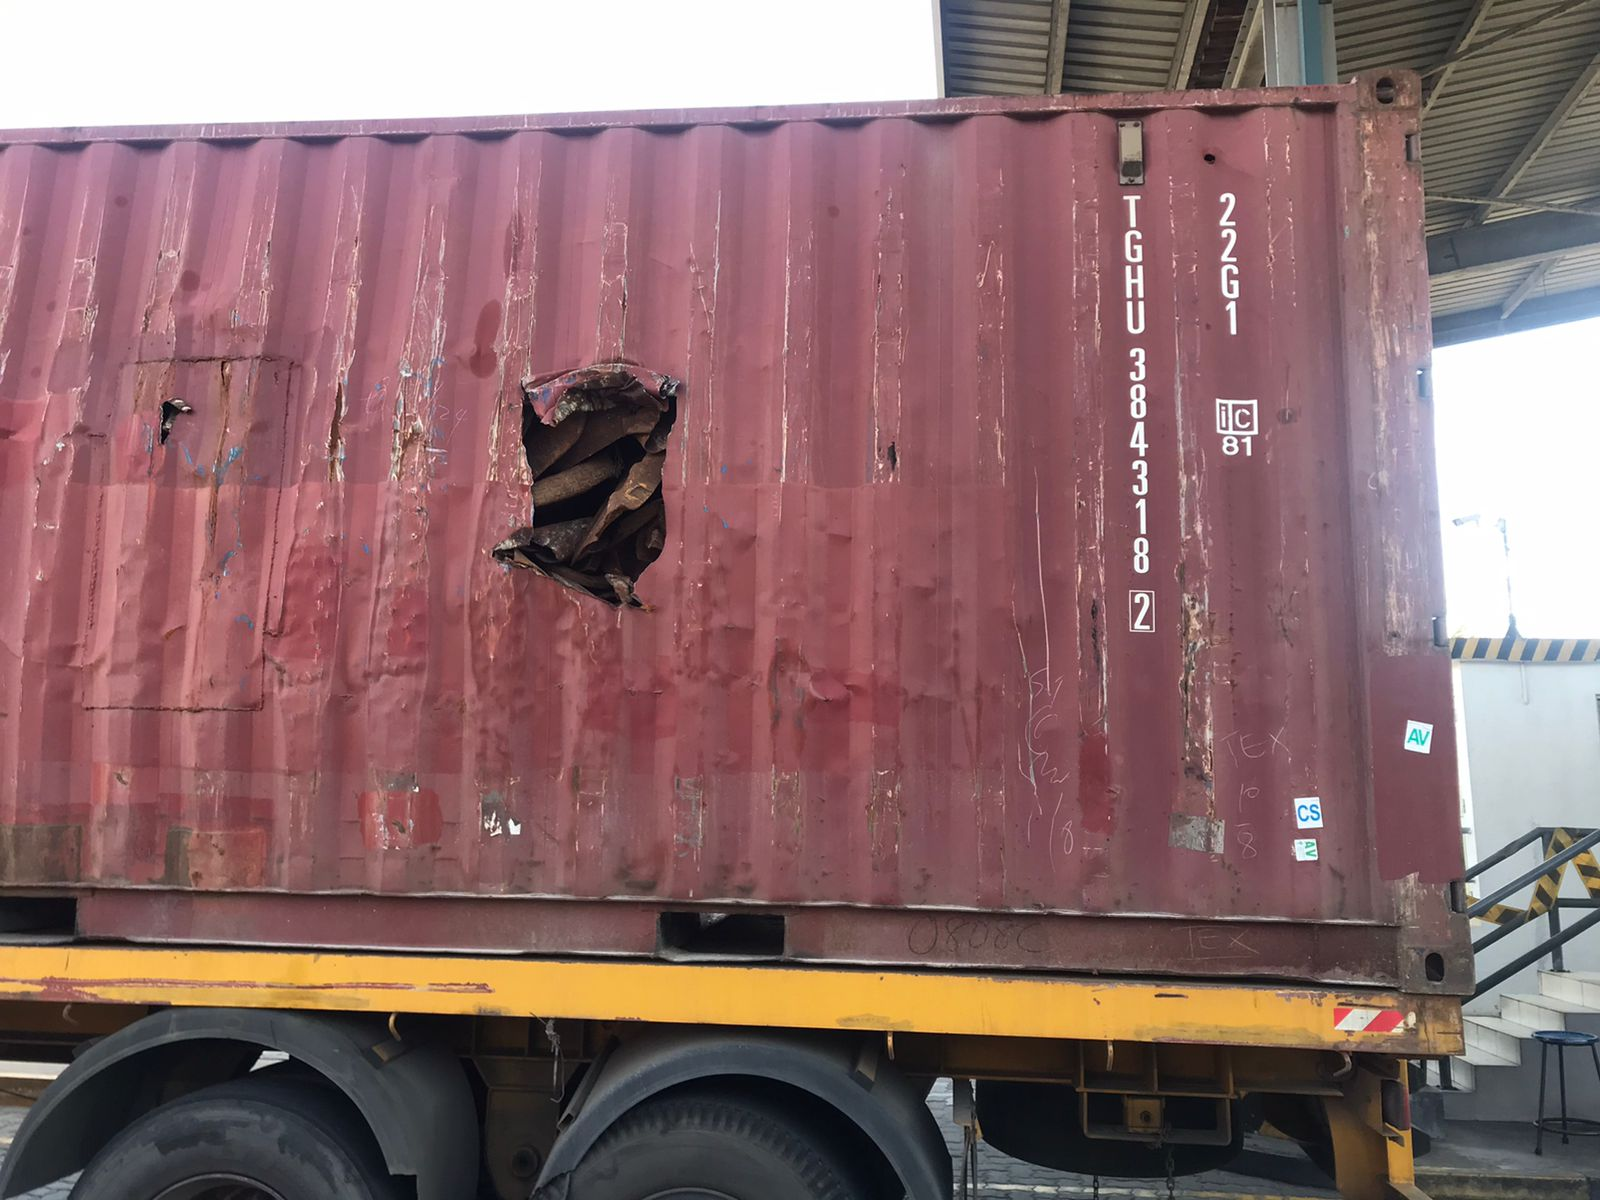moderate: (207, 563, 994, 819)
severe: (472, 357, 732, 618), (137, 402, 236, 473)
